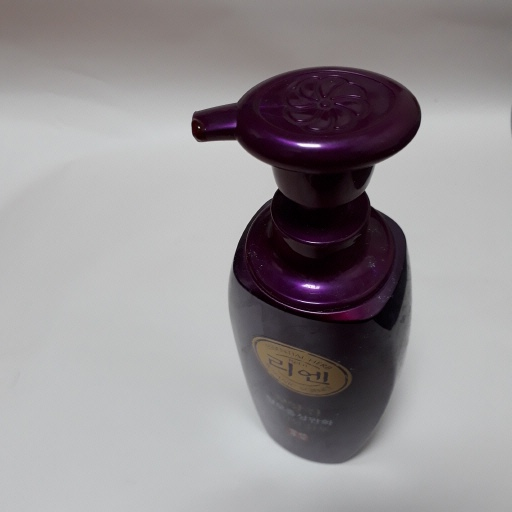Plastic_3: (193, 63, 419, 466)
